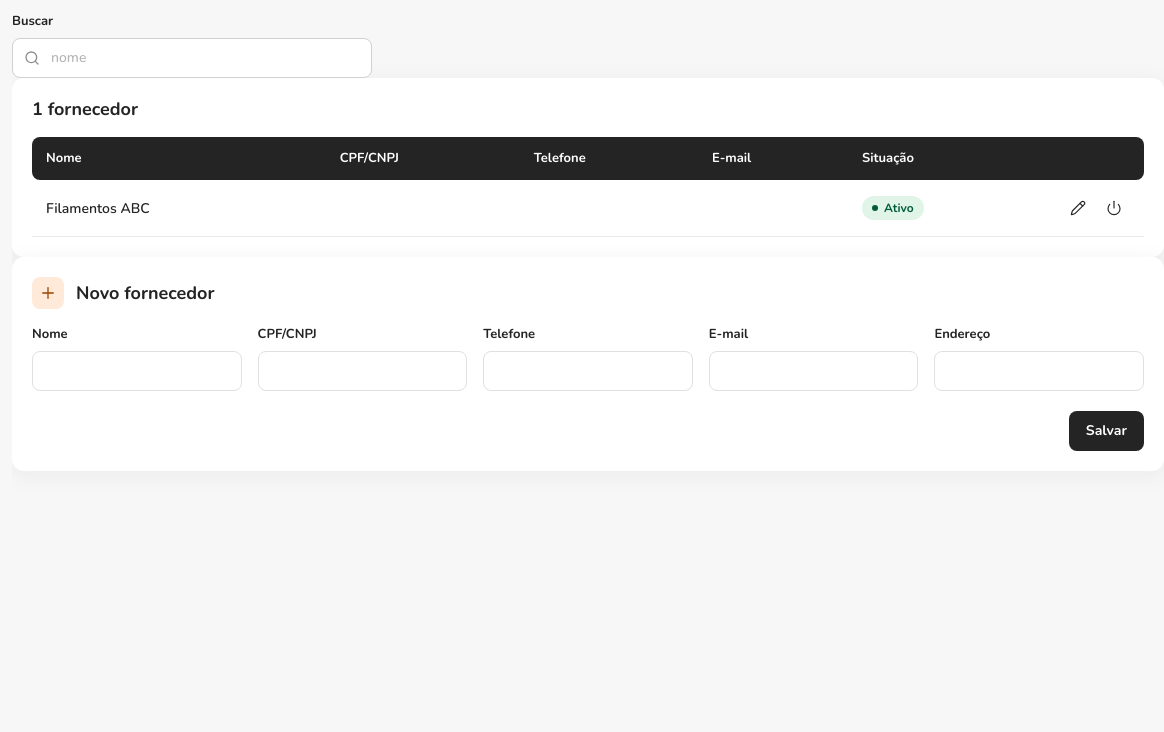
Test case: Suppliers page › updates the row without reloading
Expected: the text "Filamentos ABC" is shown, x1=32 y1=180 x2=326 y2=237
Step 1. Type "Novo Fornecedor" into the field labelled "Nome" → (137, 371), box x1=32 y1=351 x2=242 y2=391
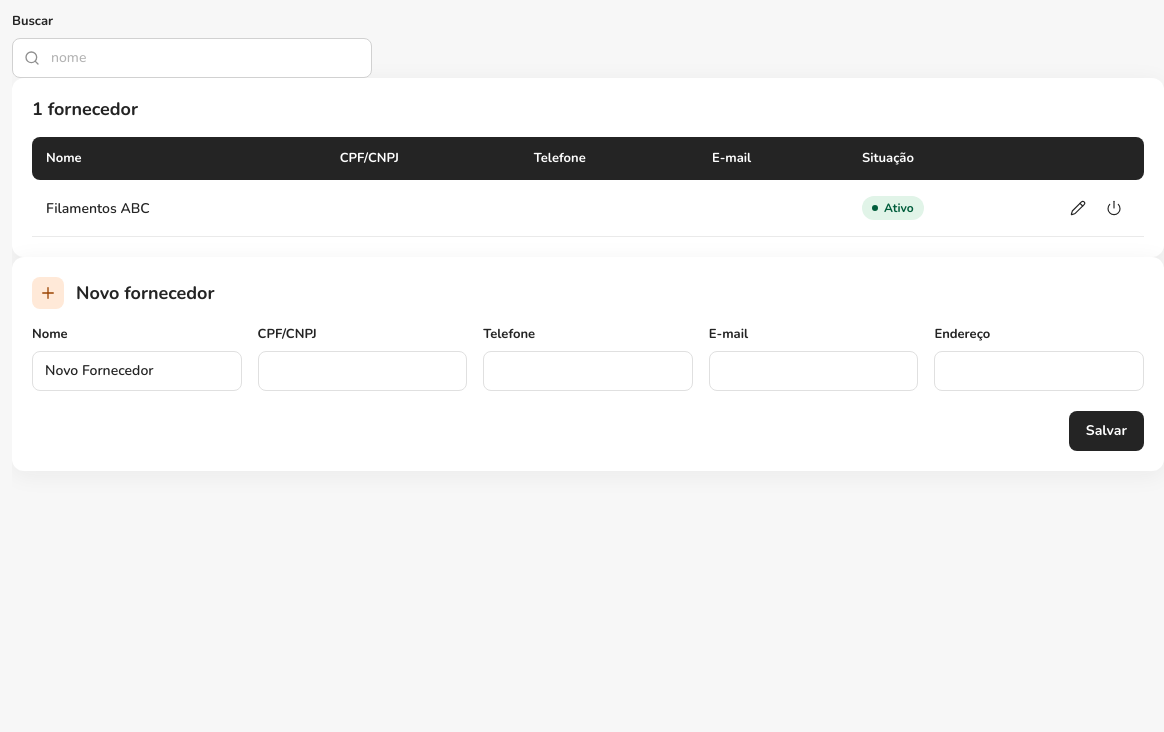
Step 2. Click the button "Salvar" → click(1106, 431), box x1=1069 y1=411 x2=1144 y2=451
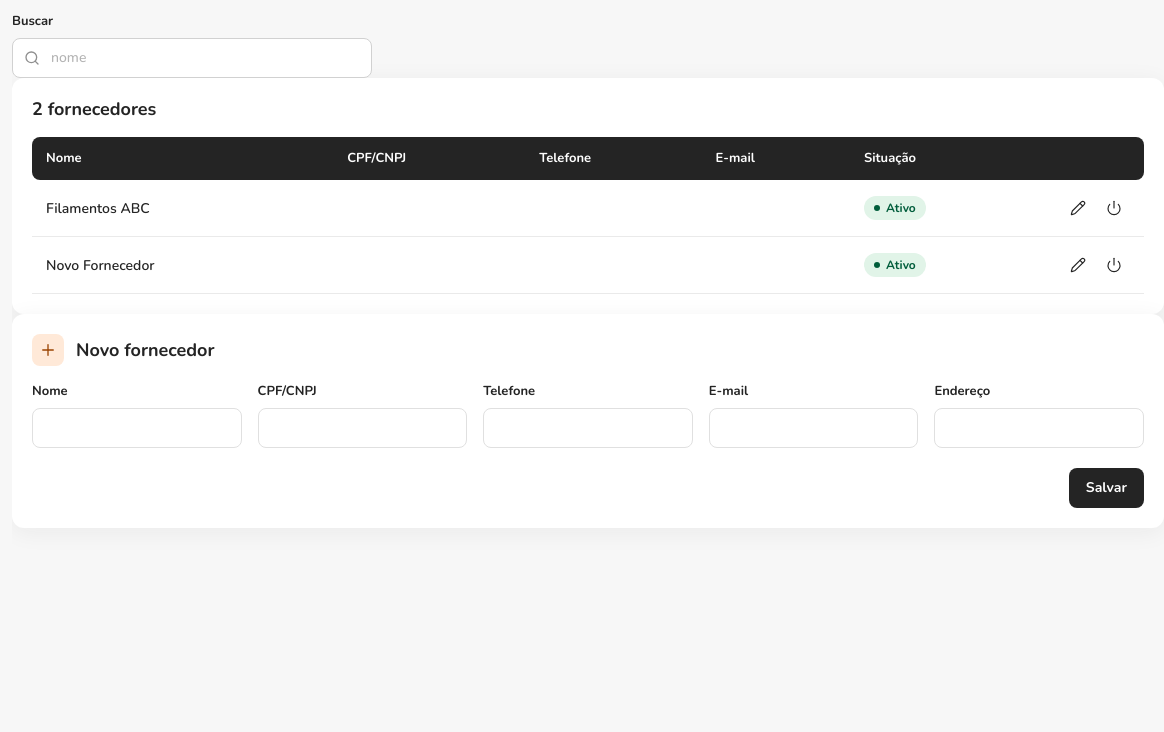
Result: the text "Novo Fornecedor" is shown at x1=32 y1=237 x2=333 y2=294
Step 3. Click the button named "Editar" in the row of "Filamentos ABC" → click(1078, 208), box x1=1062 y1=192 x2=1094 y2=224
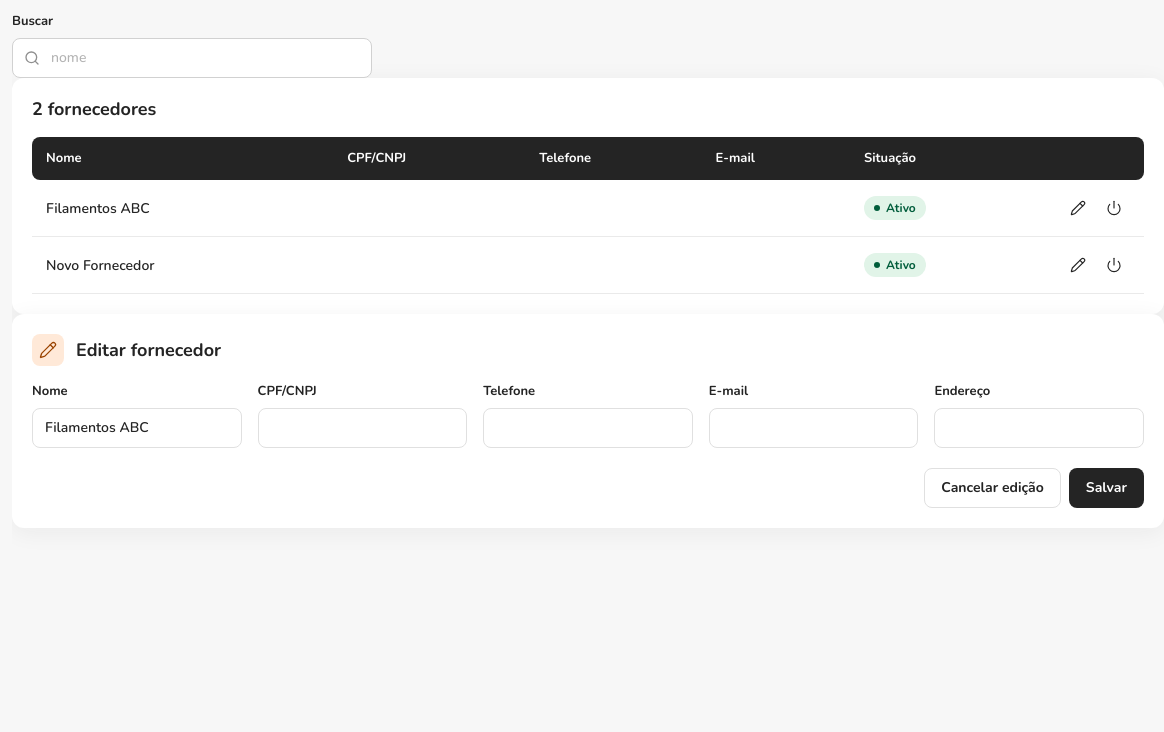
Step 4. Type "1133330000" into the field labelled "Telefone" → (588, 428), box x1=483 y1=408 x2=693 y2=448
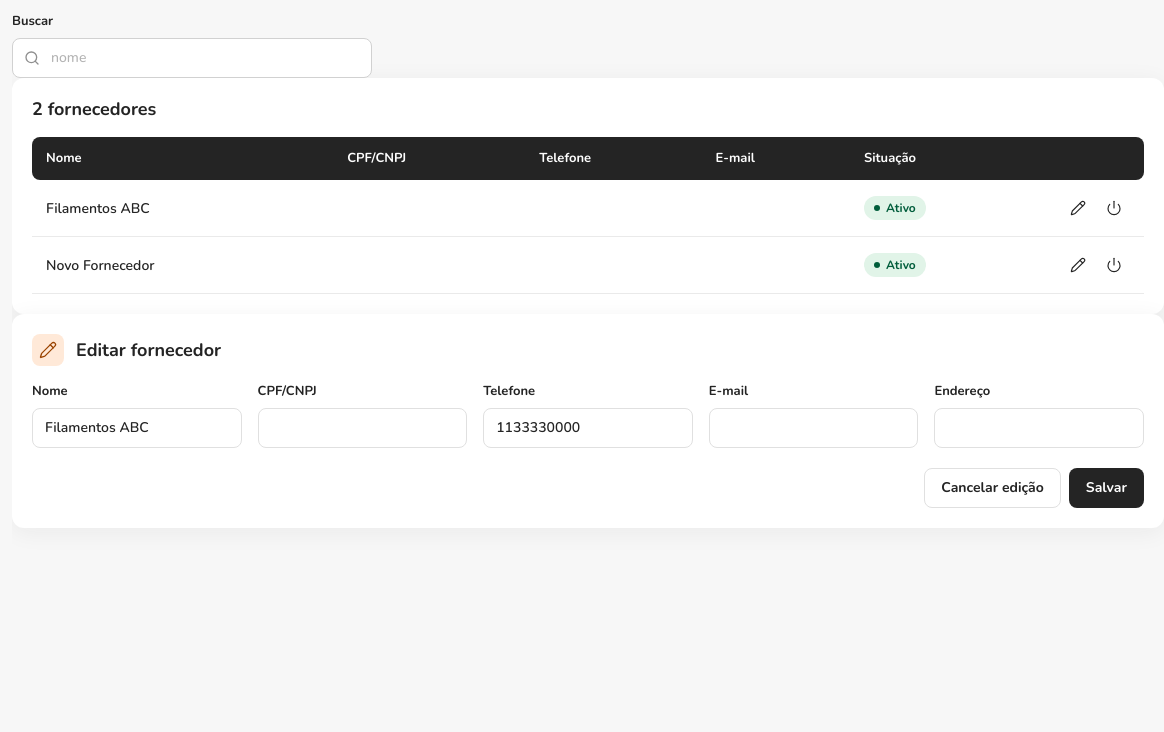
Step 5. Click the button "Salvar" → click(1106, 488), box x1=1069 y1=468 x2=1144 y2=508
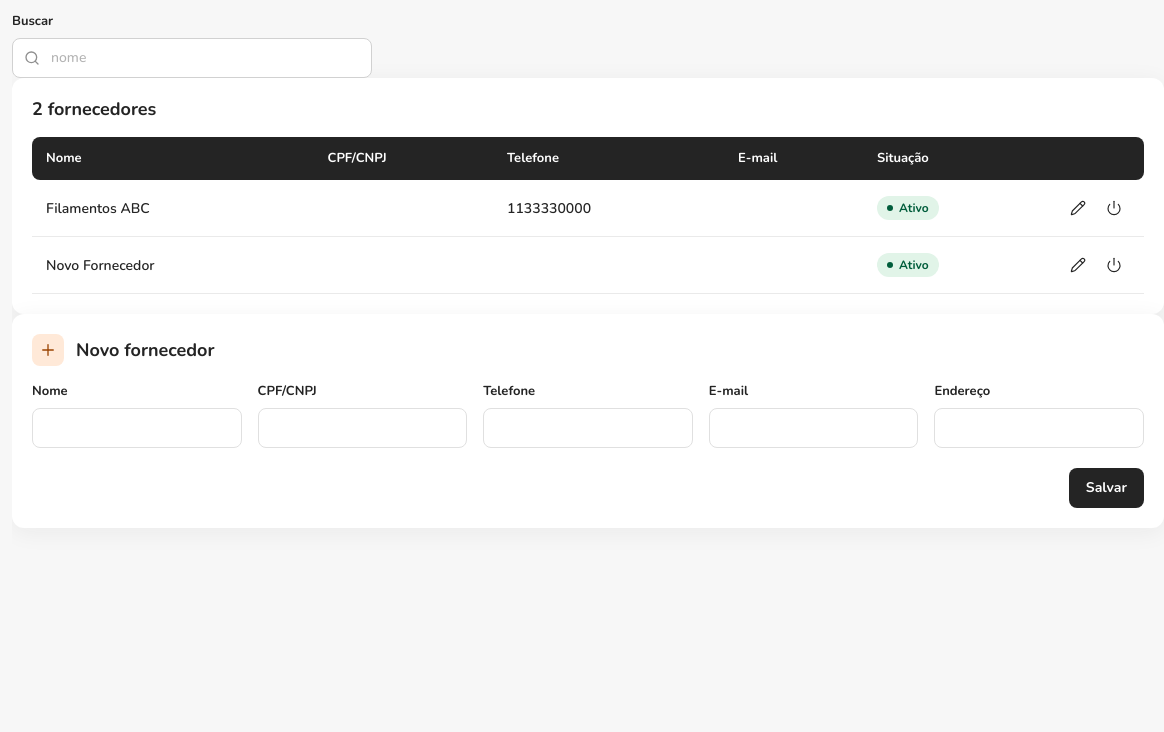
Result: the text "1133330000" is shown at x1=493 y1=180 x2=724 y2=237
